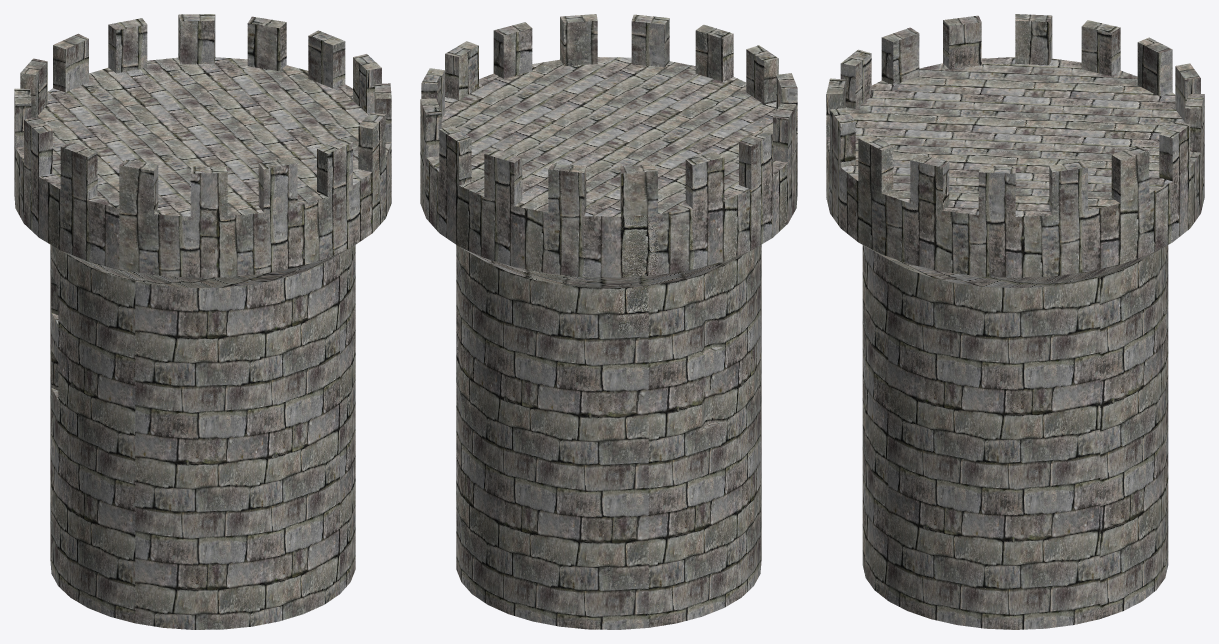
Rendered from tower.fbx.
3 views of the same model, side by side, from view 1: azimuth 30°, elevation 25°; view 2: azimuth 150°, elevation 25°; view 3: azimuth 270°, elevation 25° (orthographic).
Visible parts, largest first — view 1: Cylinder; view 2: Cylinder; view 3: Cylinder.
Part boxes in pixels (x1,y1,x2,y2): Cylinder: (14, 14, 391, 629); Cylinder: (420, 14, 797, 629); Cylinder: (826, 14, 1204, 629).
Size of the model in its own units: 248 by 341 by 248.
